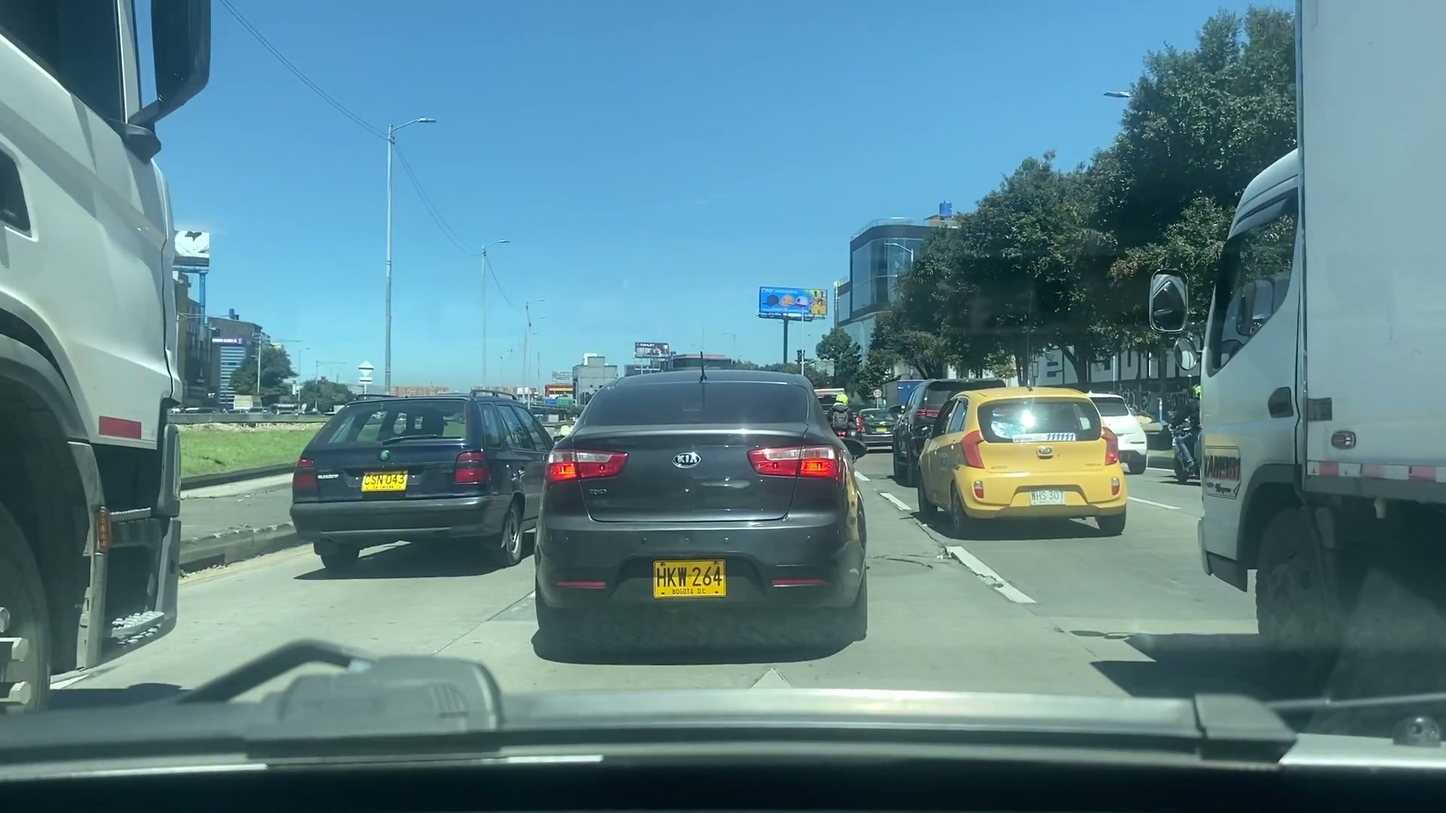car: (534, 371, 868, 645), (274, 390, 567, 571), (906, 385, 1129, 534), (892, 373, 1007, 482), (1078, 390, 1151, 472), (850, 405, 903, 453)
motorcycle: (1160, 408, 1205, 484)
person: (830, 394, 853, 436)
truck: (1147, 2, 1446, 683), (0, 1, 210, 709)
